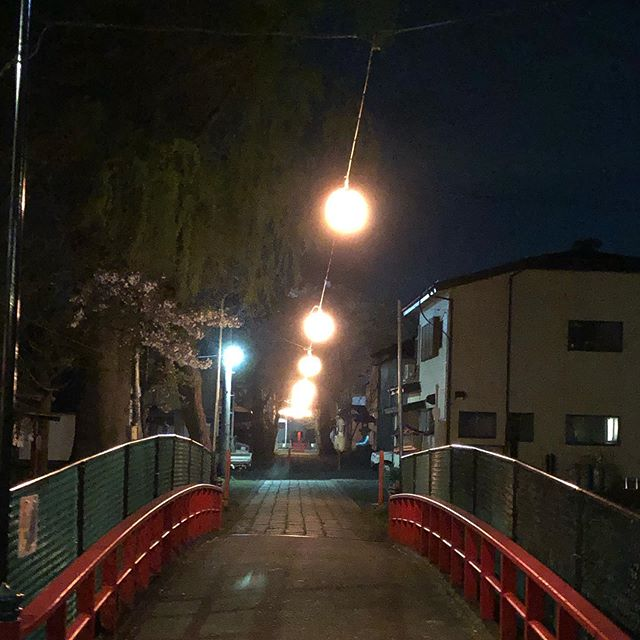bridge: (80, 479, 607, 640)
building: (419, 243, 640, 536), (365, 345, 412, 467)
sky: (352, 1, 640, 267)
tree: (1, 1, 257, 485)
